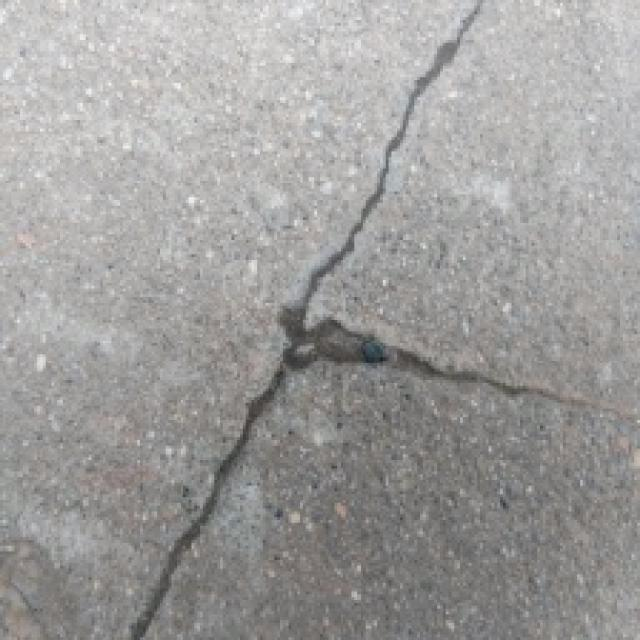SurfaceCrack: (118, 10, 548, 636)
